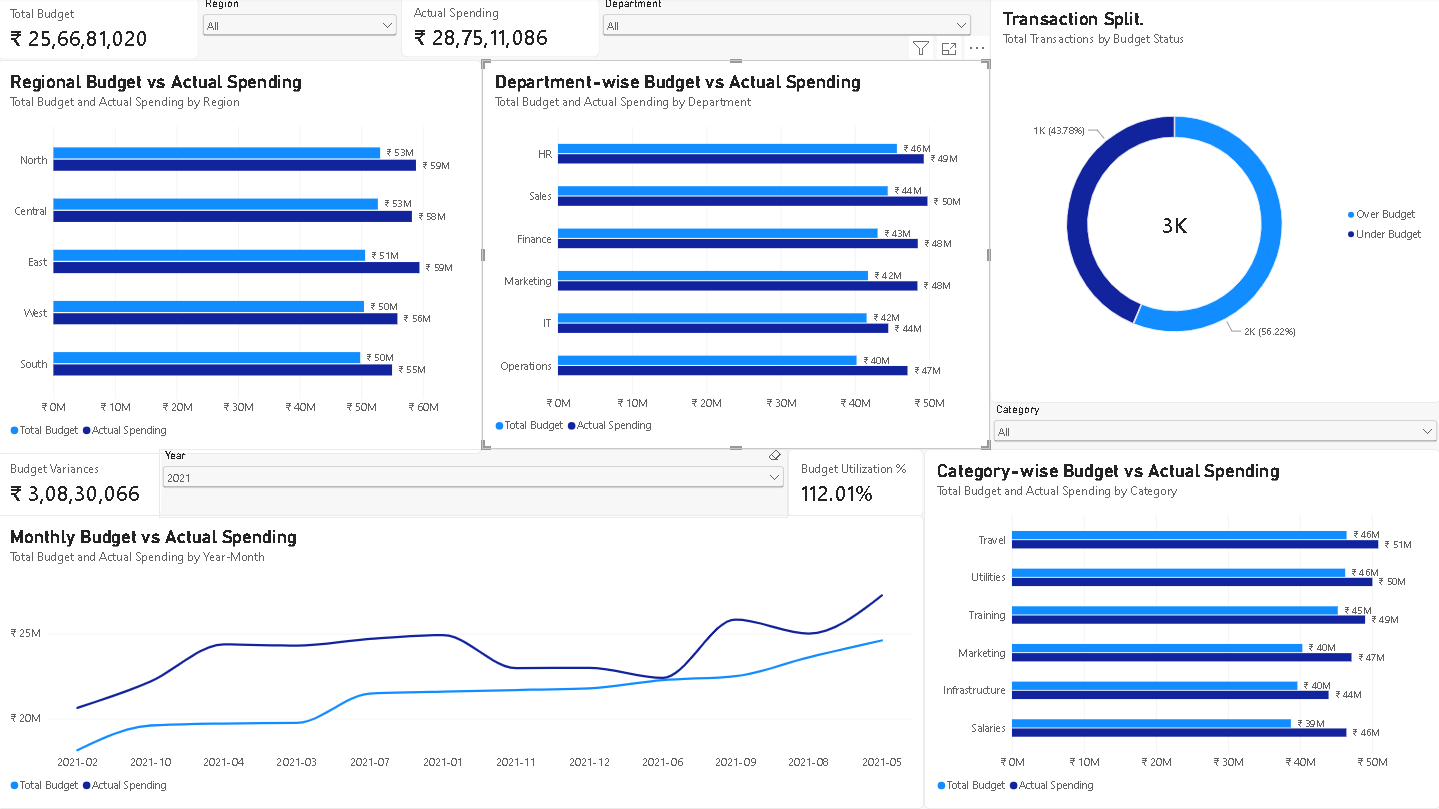

What the dashboard file says about the page in this screenshot:
{"tool":"powerbi","page":{"name":"Financial Overview","canvas":[1920,1080],"ordinal":0},"visuals":[{"type":"cardVisual","fields":{"Data":["Project_4_Cleaned_Data.Total Budget"]},"box":[0,0,268.4,83.2],"z":0},{"type":"cardVisual","fields":{"Data":["Project_4_Cleaned_Data.Actual Spending"]},"box":[536.9,0,264.1,80.2],"z":1000},{"type":"cardVisual","fields":{"Data":["Project_4_Cleaned_Data.Budget Variances"]},"box":[0,601.1,220.3,91.9],"z":2000},{"type":"cardVisual","fields":{"Data":["Project_4_Cleaned_Data.Budget Utilization %"]},"box":[1051.9,601.1,180.9,91.9],"z":3000},{"type":"clusteredBarChart","title":"Department-wise Budget vs Actual Spending","fields":{"Category":["Project_4_Cleaned_Data.Department"],"Y":["Project_4_Cleaned_Data.Total Budget","Project_4_Cleaned_Data.Actual Spending"]},"box":[644.9,83.2,675.5,517.9],"z":8000},{"type":"clusteredBarChart","title":"Category-wise Budget vs Actual Spending","fields":{"Category":["Project_4_Cleaned_Data.Category"],"Y":["Project_4_Cleaned_Data.Total Budget","Project_4_Cleaned_Data.Actual Spending"]},"box":[1232.8,601.1,687.2,478.5],"z":9000},{"type":"clusteredBarChart","title":"Regional Budget vs Actual Spending","fields":{"Category":["Project_4_Cleaned_Data.Region"],"Y":["Project_4_Cleaned_Data.Total Budget","Project_4_Cleaned_Data.Actual Spending"]},"box":[0,83.2,644.9,523.8],"z":10000},{"type":"lineChart","title":"Monthly Budget vs Actual Spending","fields":{"Category":["Date Table.Year-Month"],"Y":["Project_4_Cleaned_Data.Total Budget","Project_4_Cleaned_Data.Actual Spending"]},"box":[0,688.6,1232.8,391],"z":11000},{"type":"slicer","fields":{"Values":["Date Table.Year"]},"box":[215.9,601.1,836,91.9],"z":11001},{"type":"slicer","fields":{"Values":["Project_4_Cleaned_Data.Department"]},"box":[801,0,500.4,83.2],"z":11002},{"type":"slicer","fields":{"Values":["Project_4_Cleaned_Data.Category"]},"box":[1320.4,539.8,599.6,61.3],"z":11003},{"type":"slicer","fields":{"Values":["Project_4_Cleaned_Data.Region"]},"box":[268.4,0,268.4,80.2],"z":11004},{"type":"donutChart","title":"Transaction Split.","fields":{"Category":["Project_4_Cleaned_Data.Budget Status"],"Y":["Project_4_Cleaned_Data.Total Transactions"]},"box":[1320.4,0,599.6,539.8],"z":11005}]}

Visuals, with their boxes in screenshot pixels (x1, y1, x2, y2), scaled from the page's 1920x1080 canvas onto the 1439x809 screenshot:
cardVisual - Project_4_Cleaned_Data.Total Budget: bbox=[0, 0, 201, 62]
cardVisual - Project_4_Cleaned_Data.Actual Spending: bbox=[402, 0, 600, 60]
cardVisual - Project_4_Cleaned_Data.Budget Variances: bbox=[0, 450, 165, 519]
cardVisual - Project_4_Cleaned_Data.Budget Utilization %: bbox=[788, 450, 924, 519]
"Department-wise Budget vs Actual Spending" clusteredBarChart: bbox=[483, 62, 990, 450]
"Category-wise Budget vs Actual Spending" clusteredBarChart: bbox=[924, 450, 1438, 808]
"Regional Budget vs Actual Spending" clusteredBarChart: bbox=[0, 62, 483, 455]
"Monthly Budget vs Actual Spending" lineChart: bbox=[0, 516, 924, 808]
slicer - Date Table.Year: bbox=[162, 450, 788, 519]
slicer - Project_4_Cleaned_Data.Department: bbox=[600, 0, 975, 62]
slicer - Project_4_Cleaned_Data.Category: bbox=[990, 404, 1438, 450]
slicer - Project_4_Cleaned_Data.Region: bbox=[201, 0, 402, 60]
"Transaction Split." donutChart: bbox=[990, 0, 1438, 404]
